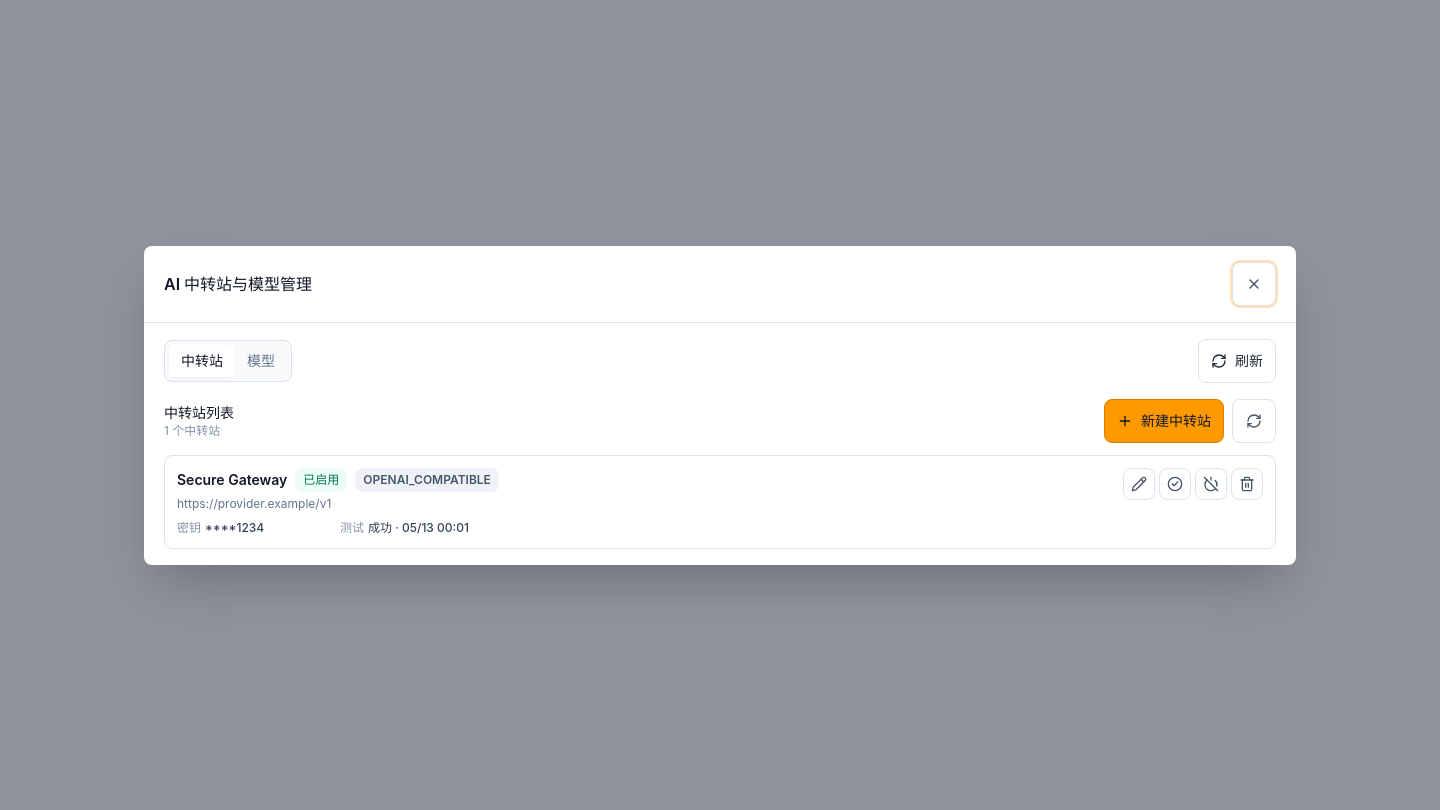
Test case: admin Provider and model management UI › opens model creation and editing in a separate drawer with Provider-specific parameters
Click the button "模型" at {"x": 261, "y": 360}, box [235,344,287,376]
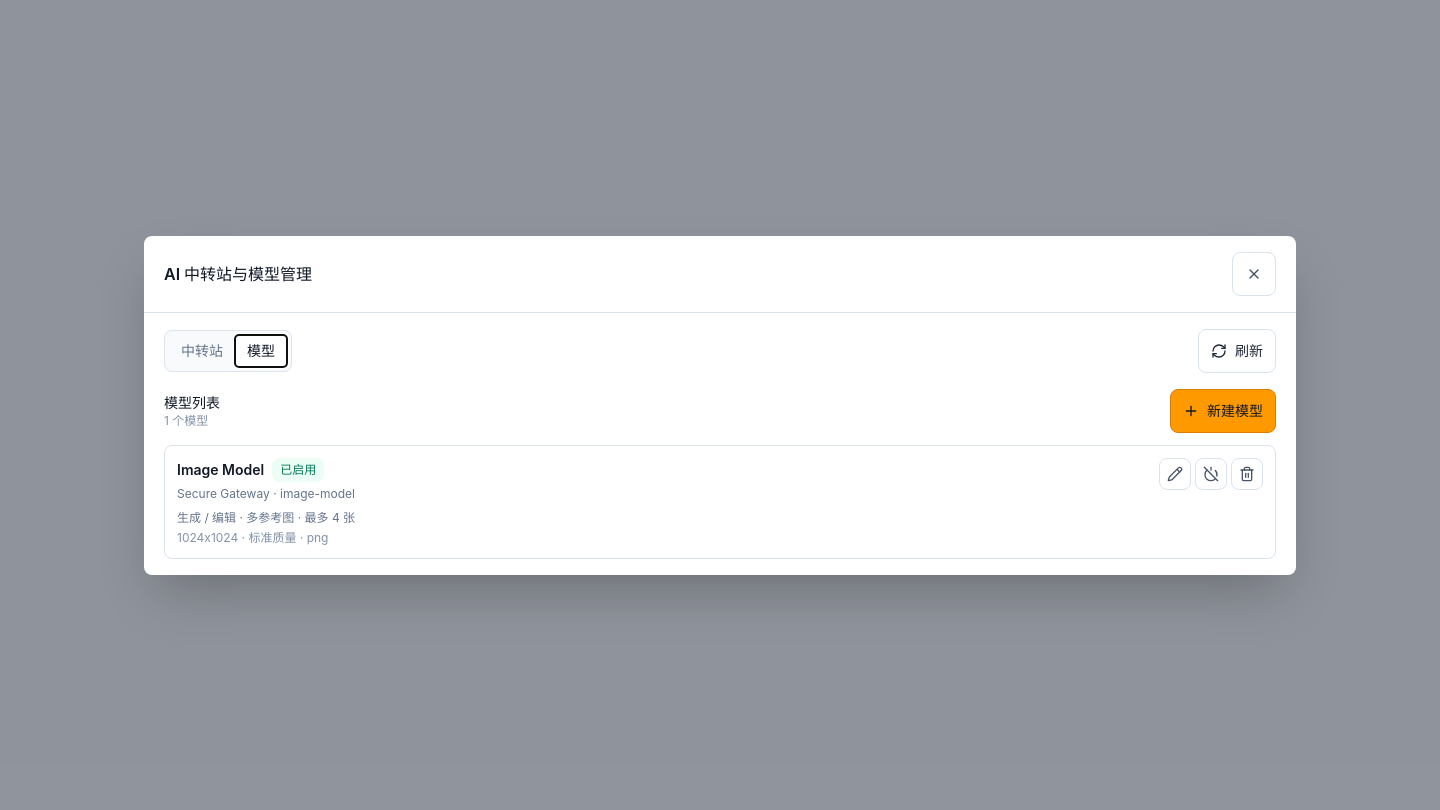
Click the button "新建模型" at {"x": 1223, "y": 410}, box [1170,388,1276,432]
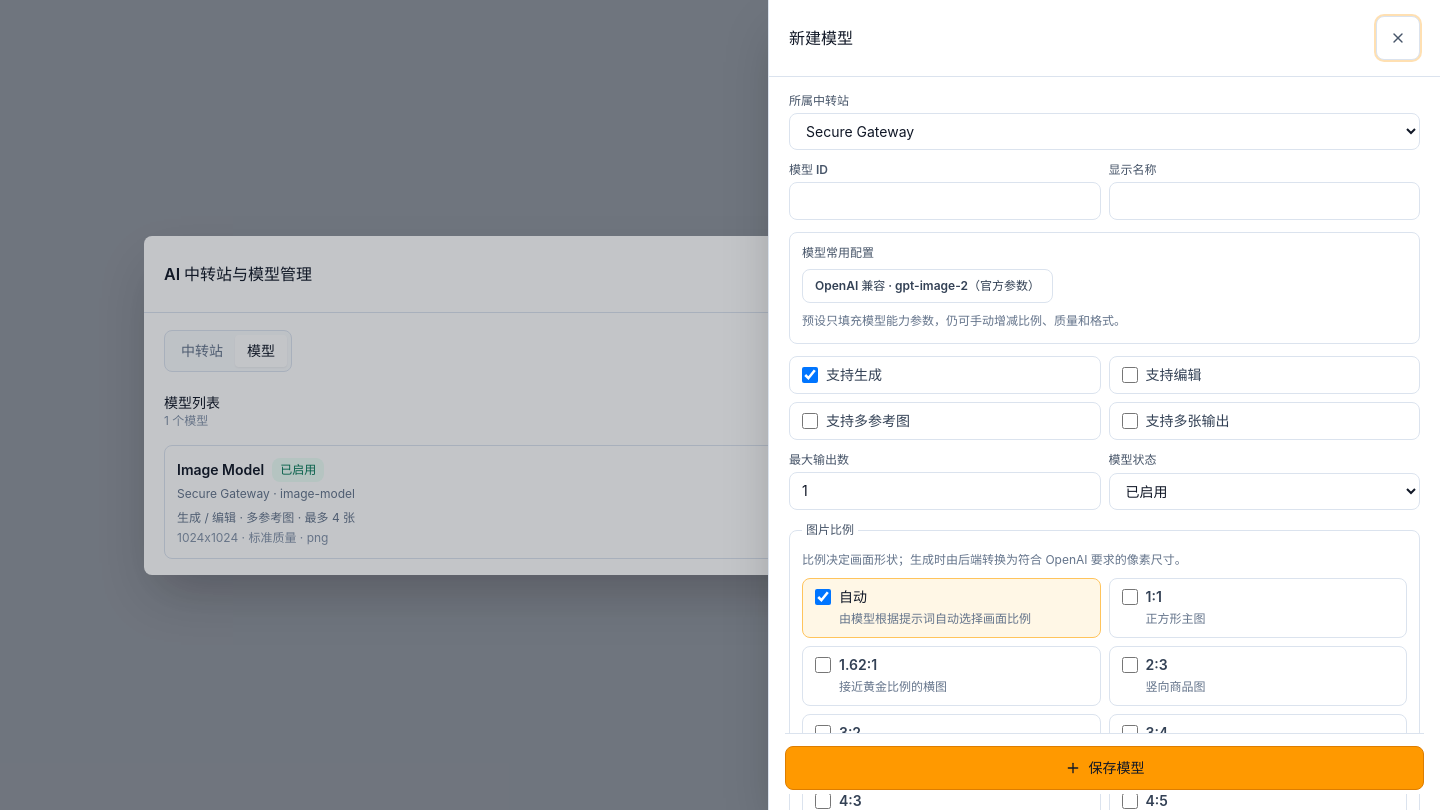
Expected: the dialog "新建模型" is shown, [768,0,1439,809]
Expected: the element "图片比例" is shown, [789,522,1420,809]
Expected: the checkbox labelled "自动 由模型根据提示词自动选择画面比例" is shown, [815,589,831,605]
Click the button named "关闭编辑面板" at {"x": 1398, "y": 38}, box [1376,16,1420,60]
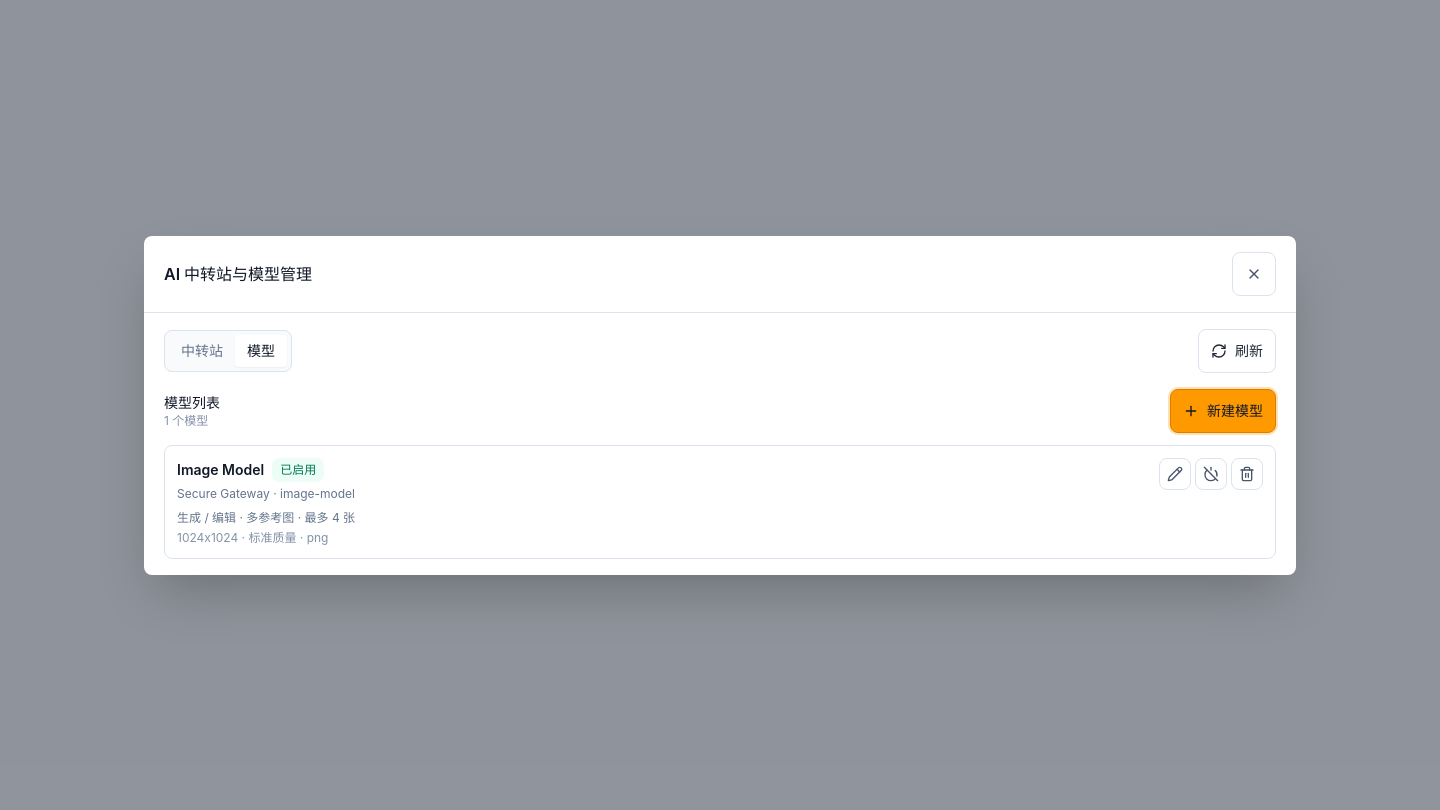
Click the button named "编辑模型 Image Model" at {"x": 1175, "y": 474}, box [1159,458,1191,490]
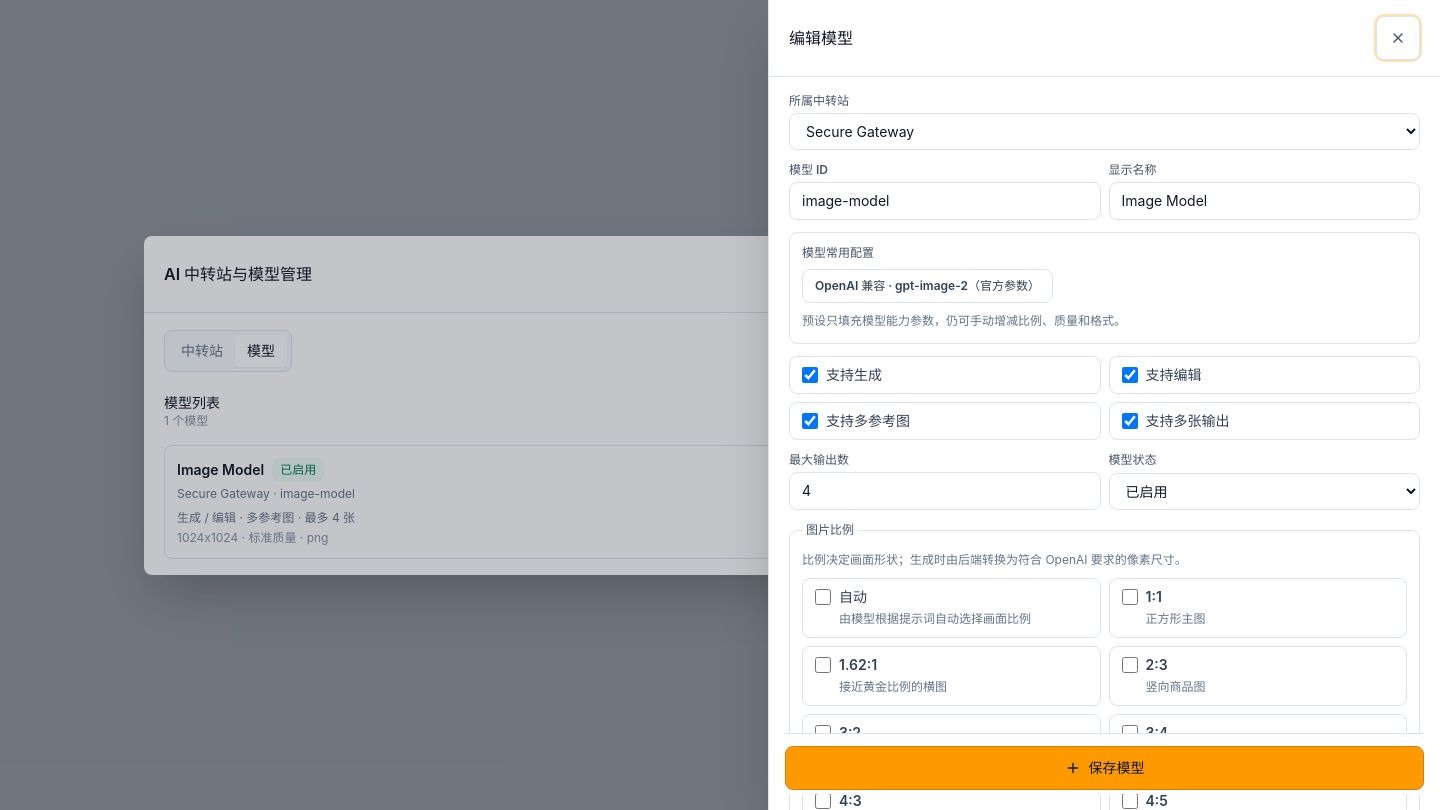
Expected: the dialog "编辑模型" is shown, [768,0,1439,809]
Expected: the field labelled "模型 ID" holds "image-model", [789,182,1100,220]
